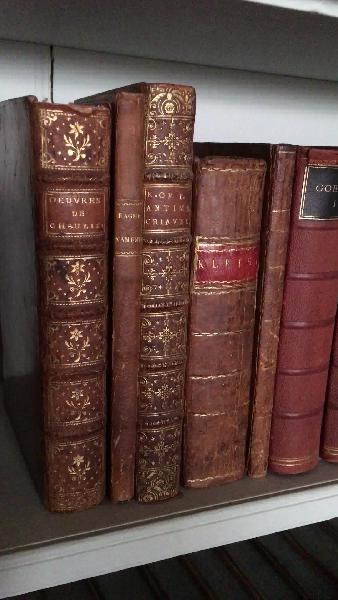Aa6-10: (255, 130, 297, 486)
Aa6-6: (28, 99, 113, 513)
Aa6-7: (111, 83, 141, 501)
Aa6-8: (139, 73, 196, 502)
Aa6-9: (191, 151, 253, 486)
